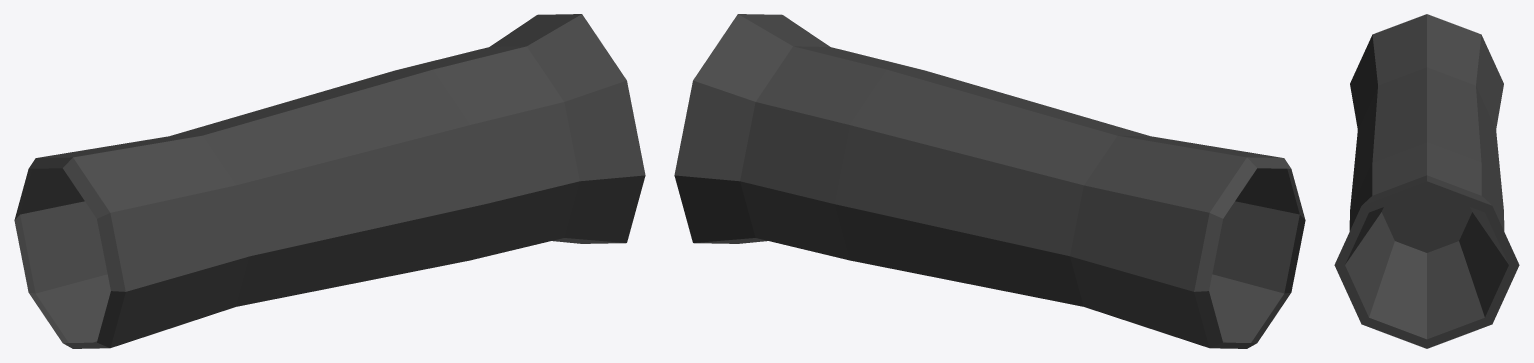
Rendered from missile_launcher.glb.
The picture shows the model from 3 angles, left to right: view 1: azimuth 30°, elevation 25°; view 2: azimuth 150°, elevation 25°; view 3: azimuth 270°, elevation 25°; orthographic projection. The views are drawn at different scales.
Visible parts, largest first — view 1: mesh_1; view 2: mesh_1; view 3: mesh_1.
Boxes of the visible parts, x1,y1,x2,y2 form: mesh_1: (14, 14, 645, 348); mesh_1: (674, 14, 1305, 348); mesh_1: (1334, 14, 1519, 348).
Size of the model in its own units: 2.08 by 0.8805 by 0.8805.
1 material, 1 textured.
